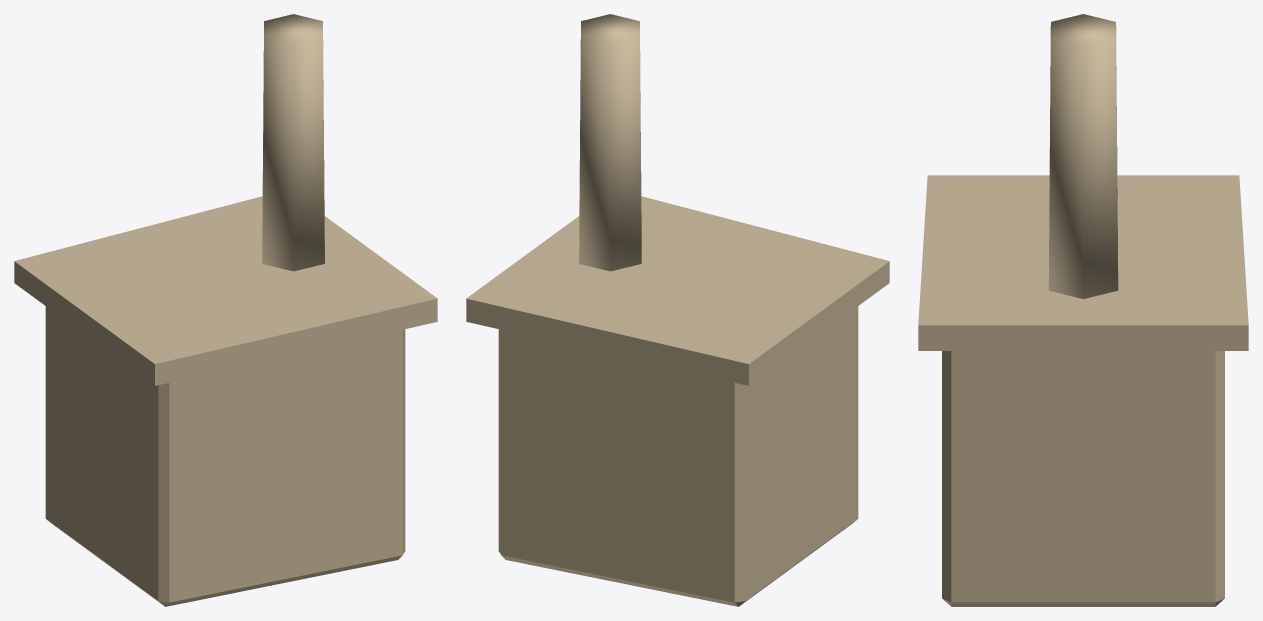
The model's file is roof_utilities.glb.
The picture shows the model from 3 angles, left to right: view 1: azimuth 30°, elevation 25°; view 2: azimuth 150°, elevation 25°; view 3: azimuth 270°, elevation 25°; orthographic projection. The views are drawn at different scales.
Visible parts, largest first — view 1: WB002V2_RoofEquipment.005; view 2: WB002V2_RoofEquipment.005; view 3: WB002V2_RoofEquipment.005.
Boxes of the visible parts, box(x1,y1,x2,y2) form: WB002V2_RoofEquipment.005: box(14, 14, 437, 606); WB002V2_RoofEquipment.005: box(466, 14, 889, 606); WB002V2_RoofEquipment.005: box(918, 14, 1248, 606).
Bounding box in the file's own units: 1.6 × 2.74 × 1.48.
